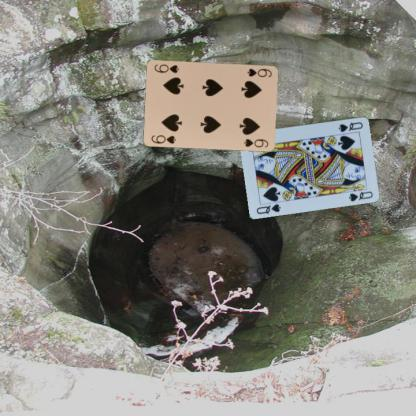6s: (149, 132, 177, 145), (245, 66, 273, 78)
Qs: (336, 119, 364, 133), (254, 201, 282, 215)
